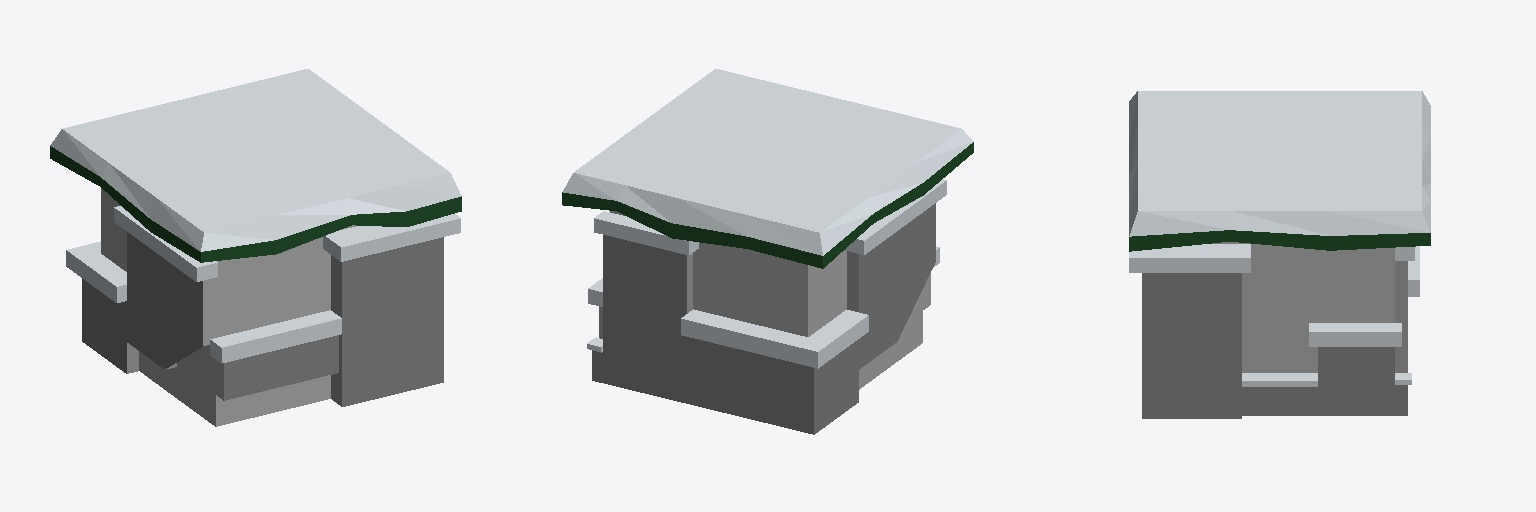
The picture shows the model from 3 angles: view 1: azimuth 30°, elevation 25°; view 2: azimuth 150°, elevation 25°; view 3: azimuth 270°, elevation 25°; orthographic projection.
Parts seen in each view (by area): view 1: Cube.096; view 2: Cube.096; view 3: Cube.096.
Boxes of the visible parts, box(x1,y1,x2,y2) form: Cube.096: box(50, 69, 461, 426); Cube.096: box(562, 69, 973, 434); Cube.096: box(1129, 91, 1430, 418).
Bounding box in the file's own units: 2.63 × 2.03 × 2.63.
1 materials, 1 textured.